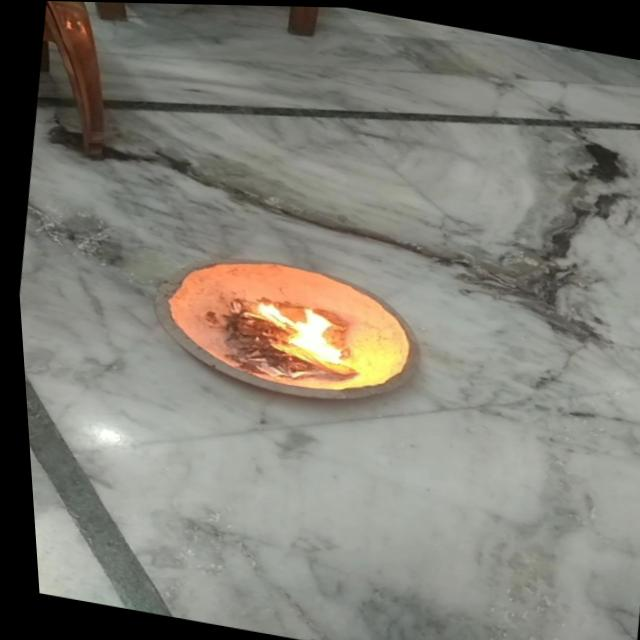fire: (235, 286, 355, 377)
